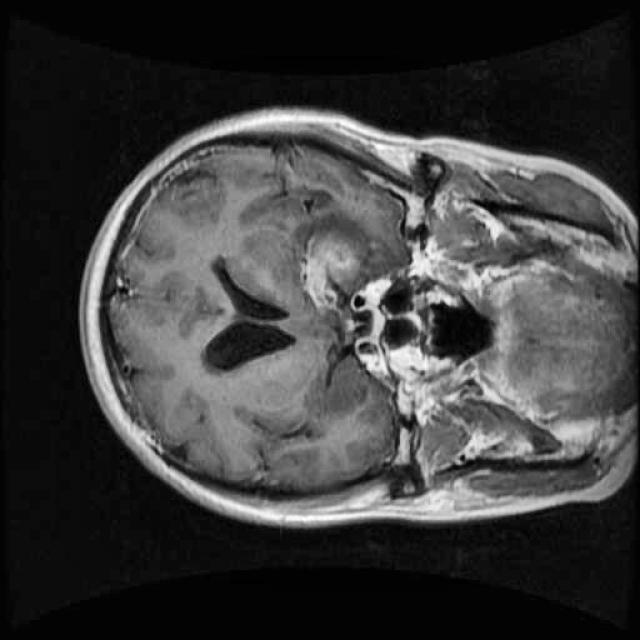Tumor: (283, 207, 399, 339)
